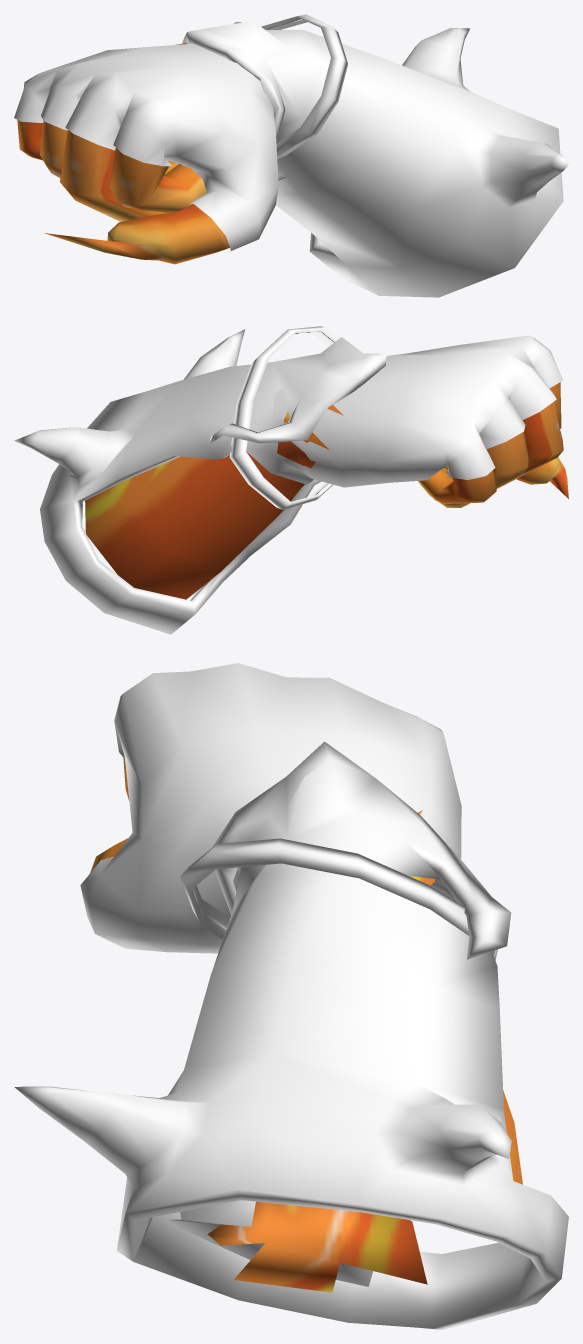
The model's file is eff_mesh_j_wucan_shizhuang_03.glb.
The picture shows the model from 3 angles, top to bottom: view 1: azimuth 30°, elevation 25°; view 2: azimuth 150°, elevation 25°; view 3: azimuth 270°, elevation 25°; orthographic projection. The views are drawn at different scales.
Parts seen in each view (by area): view 1: wucan_shoubi03, wucan_shoubi02; view 2: wucan_shoubi03, wucan_shoubi02; view 3: wucan_shoubi03, wucan_shoubi02.
Part boxes in pixels (x1=…): wucan_shoubi03: x1=14, y1=14, x2=568, y2=297; wucan_shoubi02: x1=17, y1=43, x2=229, y2=264; wucan_shoubi03: x1=14, y1=326, x2=562, y2=634; wucan_shoubi02: x1=85, y1=382, x2=568, y2=599; wucan_shoubi03: x1=14, y1=663, x2=568, y2=1329; wucan_shoubi02: x1=90, y1=758, x2=522, y2=1292.
Bounding box in the file's own units: 2.03 × 1.24 × 1.35.
2 materials, 1 textured.
